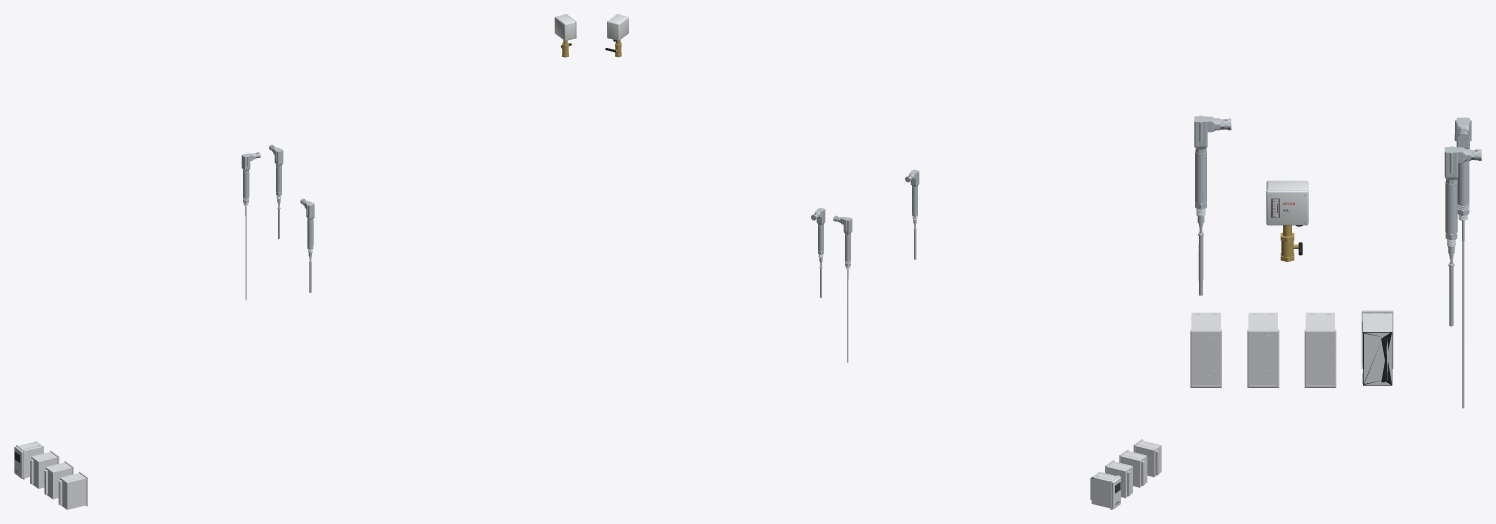
The model's file is trim-8TNtBtzY.glb.
3 views of the same model, side by side, from view 1: azimuth 30°, elevation 25°; view 2: azimuth 150°, elevation 25°; view 3: azimuth 270°, elevation 25° (orthographic). The views are drawn at different scales.
Parts seen in each view (by area): view 1: level_controller_1 CAD, bc970 / bc970_0.npz.001, level_controller_3 CAD, level_controller_2 CAD, high_level CAD, pressure_switch_2 / pressure_switches_2_0.npz.001; view 2: bc970 / bc970_0.npz.001, level_controller_1 CAD, level_controller_2 CAD, pressure_switch_2 / pressure_switches_2_0.npz.001, high_level CAD; view 3: pressure_switch_2 / pressure_switches_2_0.npz.001, bc970 / bc970_0.npz.001, level_controller_2 CAD, level_controller_3 CAD, level_controller_1 CAD, low_level_2 CAD, low_level_1 CAD, high_level CAD.
Boxes of the visible parts, box(x1,y1,x2,y2) form: level_controller_1 CAD: box(58, 471, 87, 509); bc970 / bc970_0.npz.001: box(14, 441, 43, 479); level_controller_3 CAD: box(30, 450, 59, 488); level_controller_2 CAD: box(44, 461, 73, 499); high_level CAD: box(241, 152, 260, 299); pressure_switch_2 / pressure_switches_2_0.npz.001: box(554, 14, 576, 57); bc970 / bc970_0.npz.001: box(1090, 472, 1120, 509); level_controller_1 CAD: box(1133, 439, 1161, 477); level_controller_2 CAD: box(1119, 449, 1147, 487); pressure_switch_2 / pressure_switches_2_0.npz.001: box(605, 14, 628, 57); high_level CAD: box(833, 215, 852, 362); pressure_switch_2 / pressure_switches_2_0.npz.001: box(1266, 180, 1308, 261); bc970 / bc970_0.npz.001: box(1361, 310, 1393, 385); level_controller_2 CAD: box(1247, 312, 1279, 387); level_controller_3 CAD: box(1304, 312, 1336, 387); level_controller_1 CAD: box(1190, 312, 1221, 387); low_level_2 CAD: box(1444, 146, 1481, 326); low_level_1 CAD: box(1194, 115, 1231, 295); high_level CAD: box(1454, 117, 1471, 408).
Bounding box in the file's own units: 2.8 × 1.73 × 0.6632.
